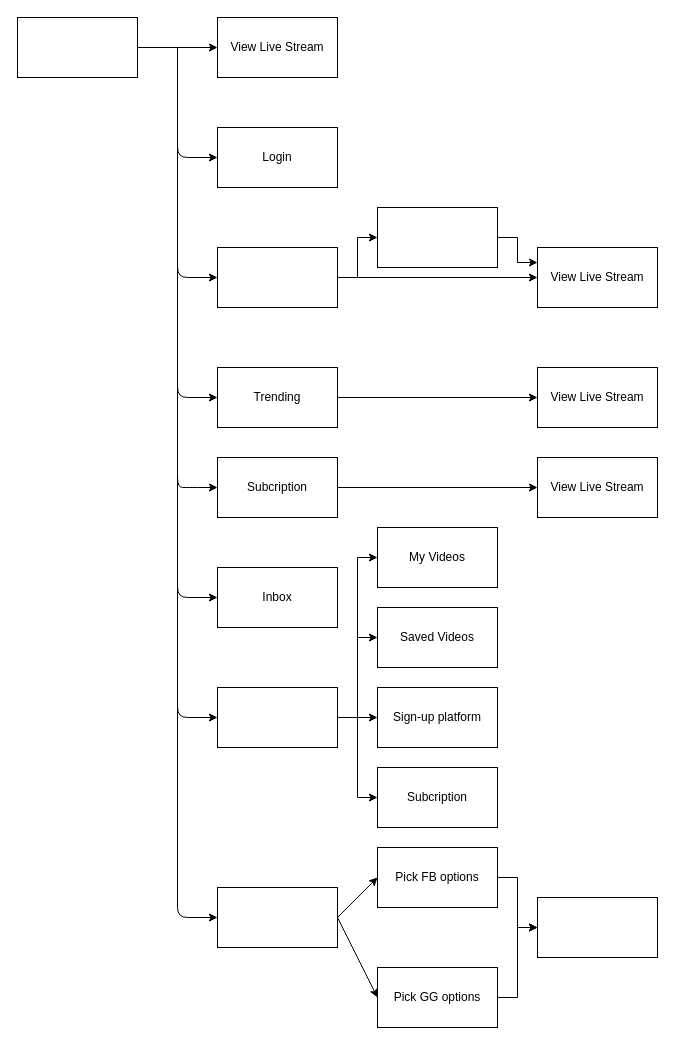
The diagram is 675 pixels wide and 1045 high, and some of its shapes have lost their labels. Each missing label, with the centre of its shape:
"Account" goes at (277,717).
"Advance Searching" goes at (437,237).
"Create Live Stream" goes at (277,917).
"Home" goes at (77,47).
"Live Stream" goes at (597,927).
"Searching" goes at (277,277).
